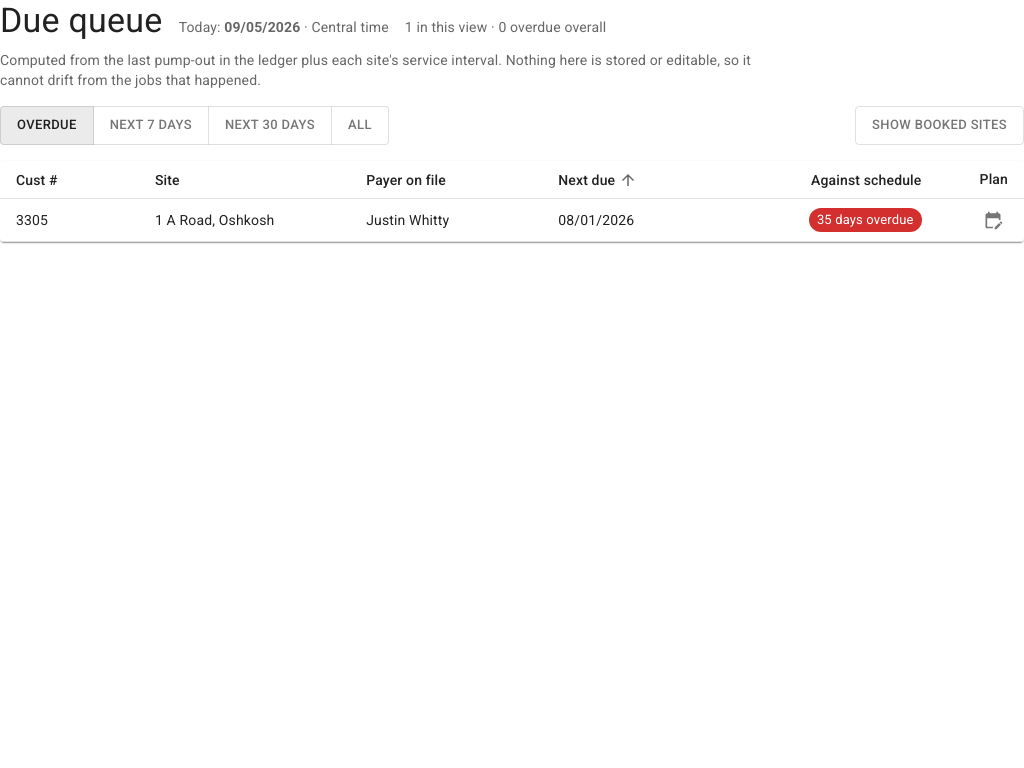
T-SCH-16: an adjusted row is a date with a sentence attached › the dialog posts date and reason, and a refusal comes back in the server’s words
Expected: the text "1 A Road, Oshkosh" is shown, [139,199,350,242]
Click the button named "adjust due date for 1 A Road" at (993,220), box [978,205,1008,235]
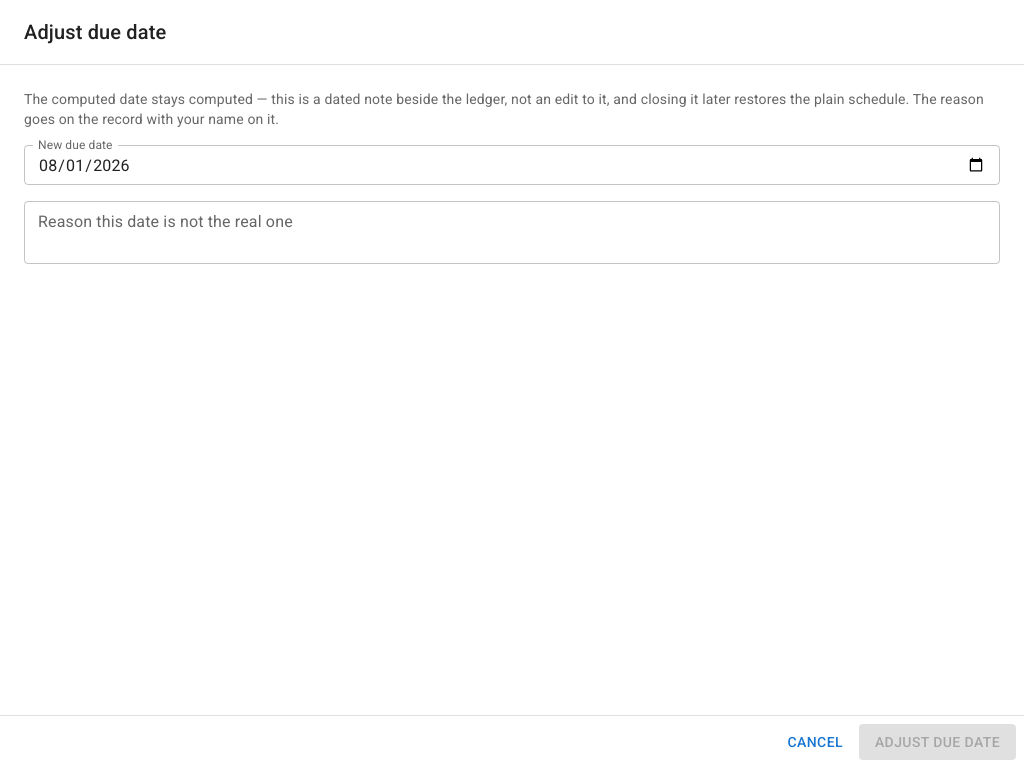
Now the button "Adjust due date" is disabled, box [859,724,1016,760]
Type "2029-01-15" into the date field named "adjusted due date" at (512,165), box [24,145,1000,185]
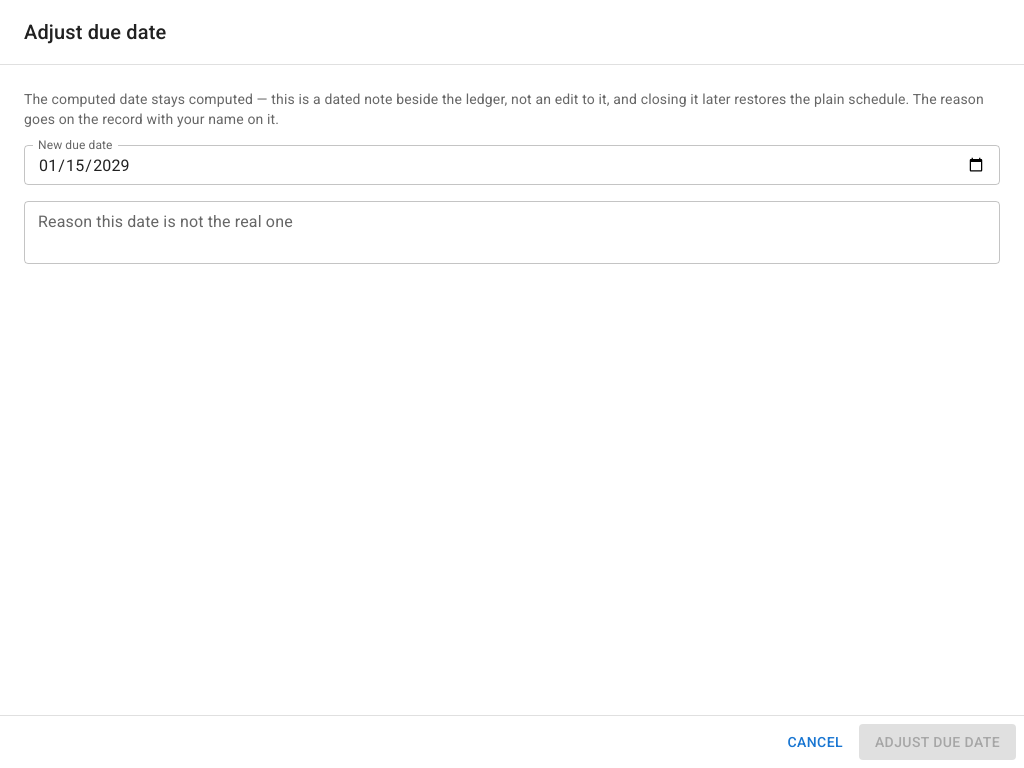
Now the button "Adjust due date" is disabled, box [859,724,1016,760]
Type "Competitor pumped" into the text box named "adjustment reason" at (512,232), box [38,210,986,256]
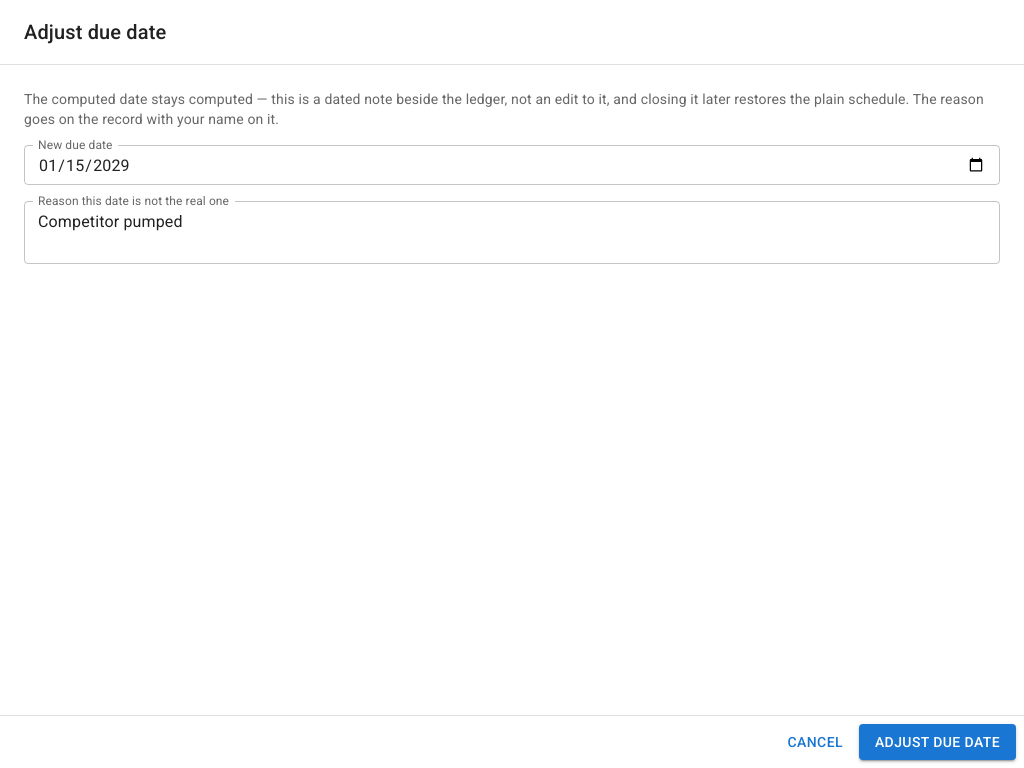
Now the button "Adjust due date" is enabled
Click the button "Adjust due date" at (937,742), box [859,724,1016,760]
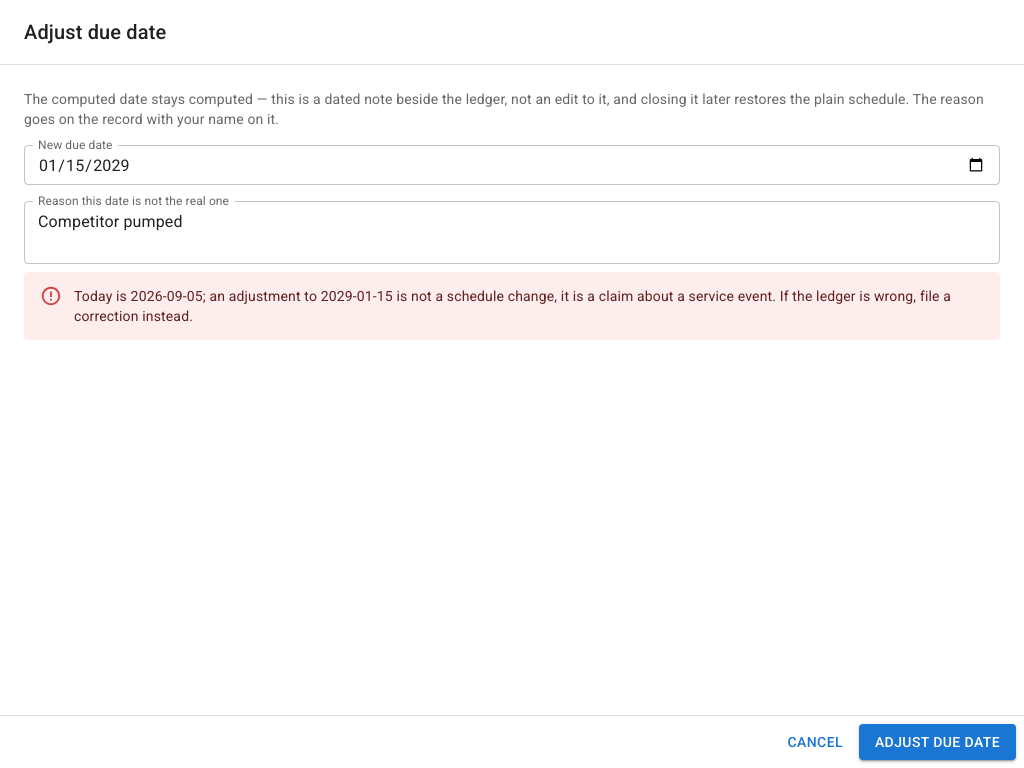
Now the message shows "file a correction instead", box [74,288,951,324]
Click the button "Adjust due date" at (937,742), box [859,724,1016,760]
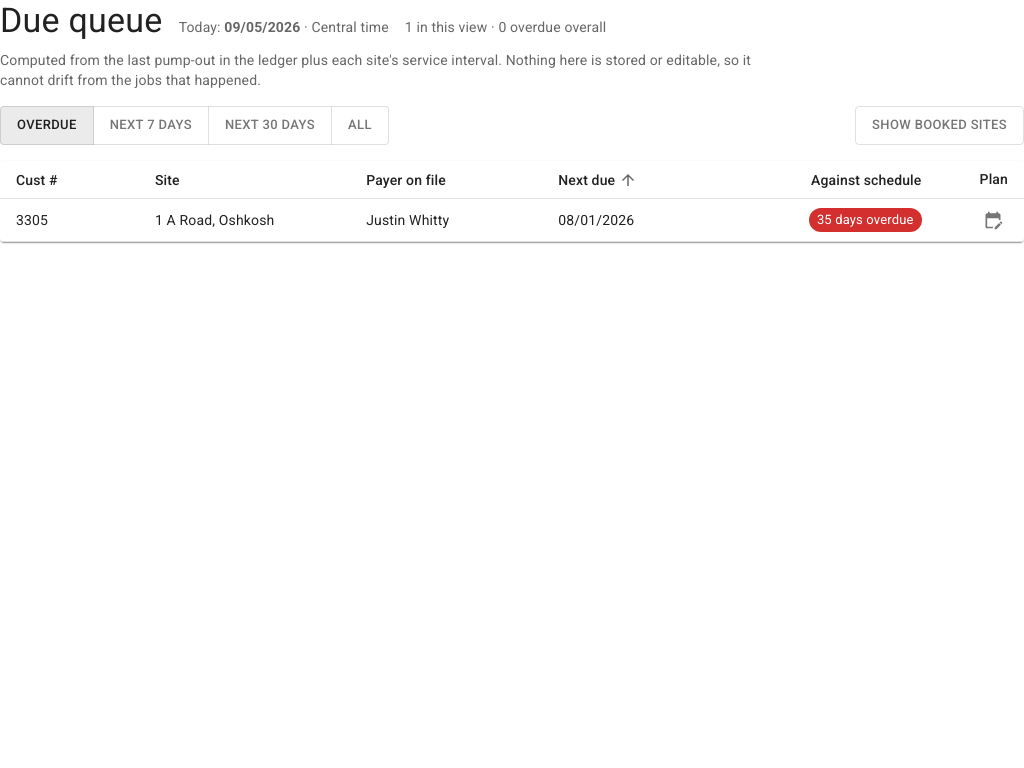
Now the dialog is gone
